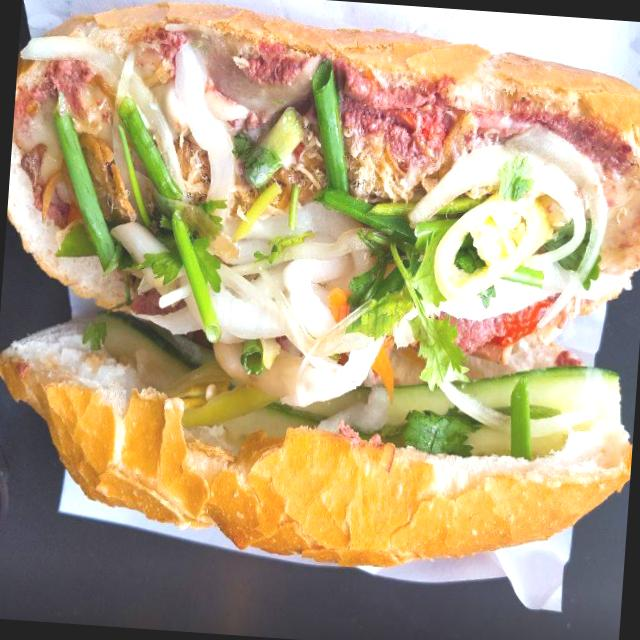banh mi: (0, 4, 640, 567)
